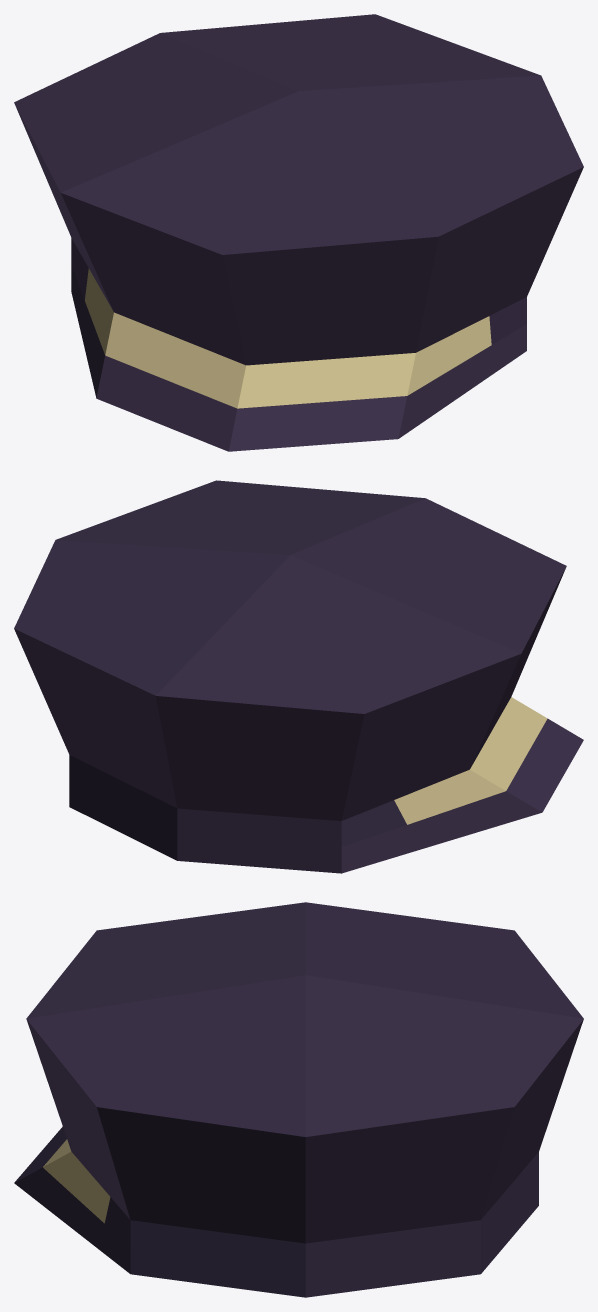
The model's file is copHat.fbx.
The picture shows the model from 3 angles, top to bottom: view 1: azimuth 30°, elevation 25°; view 2: azimuth 150°, elevation 25°; view 3: azimuth 270°, elevation 25°; orthographic projection. The views are drawn at different scales.
Visible parts, largest first — view 1: Cube; view 2: Cube; view 3: Cube.
Part boxes in pixels (<box>): Cube: <box>14,14,583,451</box>; Cube: <box>14,480,583,873</box>; Cube: <box>14,902,583,1297</box>.
Size of the model in its own units: 266 by 122 by 273.
